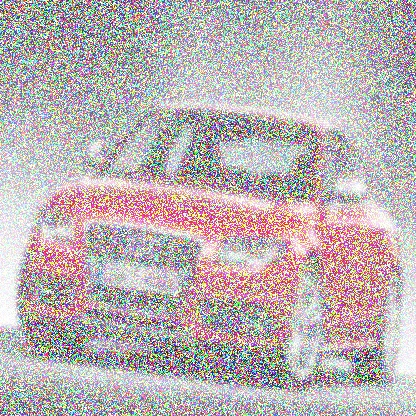Vehicle: (18, 103, 406, 401)
